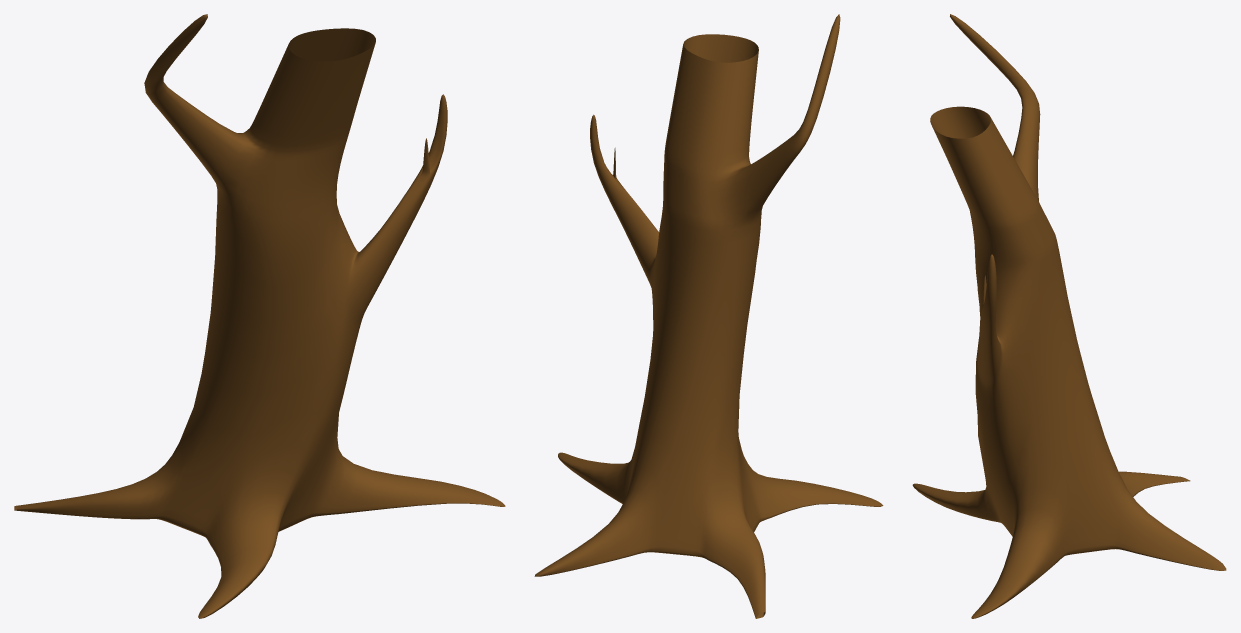
Rendered from tree_3.fbx.
3 views of the same model, side by side, from view 1: azimuth 30°, elevation 25°; view 2: azimuth 150°, elevation 25°; view 3: azimuth 270°, elevation 25° (orthographic). The views are drawn at different scales.
Parts seen in each view (by area): view 1: pCylinder6; view 2: pCylinder6; view 3: pCylinder6.
Part boxes in pixels (<box>): pCylinder6: <box>14,14,505,618</box>; pCylinder6: <box>534,14,883,618</box>; pCylinder6: <box>912,14,1226,618</box>.
Bounding box in the file's own units: 364 × 562 × 328.
